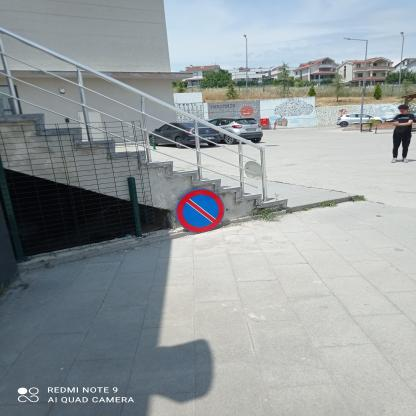No Waiting: (177, 190, 226, 234)
